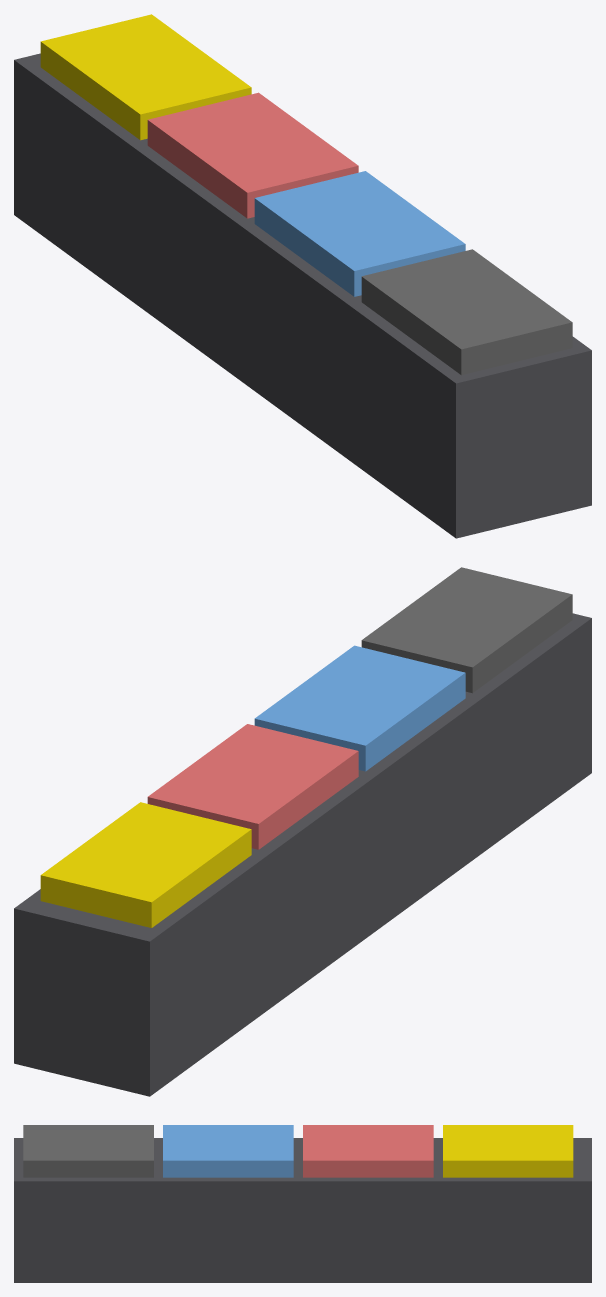
Rendered from atx24-plug.glb.
The picture shows the model from 3 angles, top to bottom: view 1: azimuth 30°, elevation 25°; view 2: azimuth 150°, elevation 25°; view 3: azimuth 270°, elevation 25°; orthographic projection. The views are drawn at different scales.
Visible parts, largest first — view 1: c1a1a1d, c2a2a2a, cd32f2f, c2b6fd6, cf2c200; view 2: c1a1a1d, cf2c200, c2b6fd6, c2a2a2a, cd32f2f; view 3: c1a1a1d, cf2c200, cd32f2f, c2b6fd6, c2a2a2a.
Boxes of the visible parts, <box> form: c1a1a1d: <box>14,53,591,538</box>; c2a2a2a: <box>361,249,572,375</box>; cd32f2f: <box>147,92,358,218</box>; c2b6fd6: <box>254,171,465,296</box>; cf2c200: <box>40,14,251,140</box>; c1a1a1d: <box>14,613,591,1096</box>; cf2c200: <box>40,802,251,927</box>; c2b6fd6: <box>254,645,465,771</box>; c2a2a2a: <box>361,567,572,693</box>; cd32f2f: <box>147,724,358,849</box>; c1a1a1d: <box>14,1138,591,1282</box>; cf2c200: <box>443,1125,573,1177</box>; cd32f2f: <box>303,1125,433,1177</box>; c2b6fd6: <box>163,1125,293,1177</box>; c2a2a2a: <box>23,1125,153,1177</box>.
Size of the model in its own units: 11 by 14 by 62.
